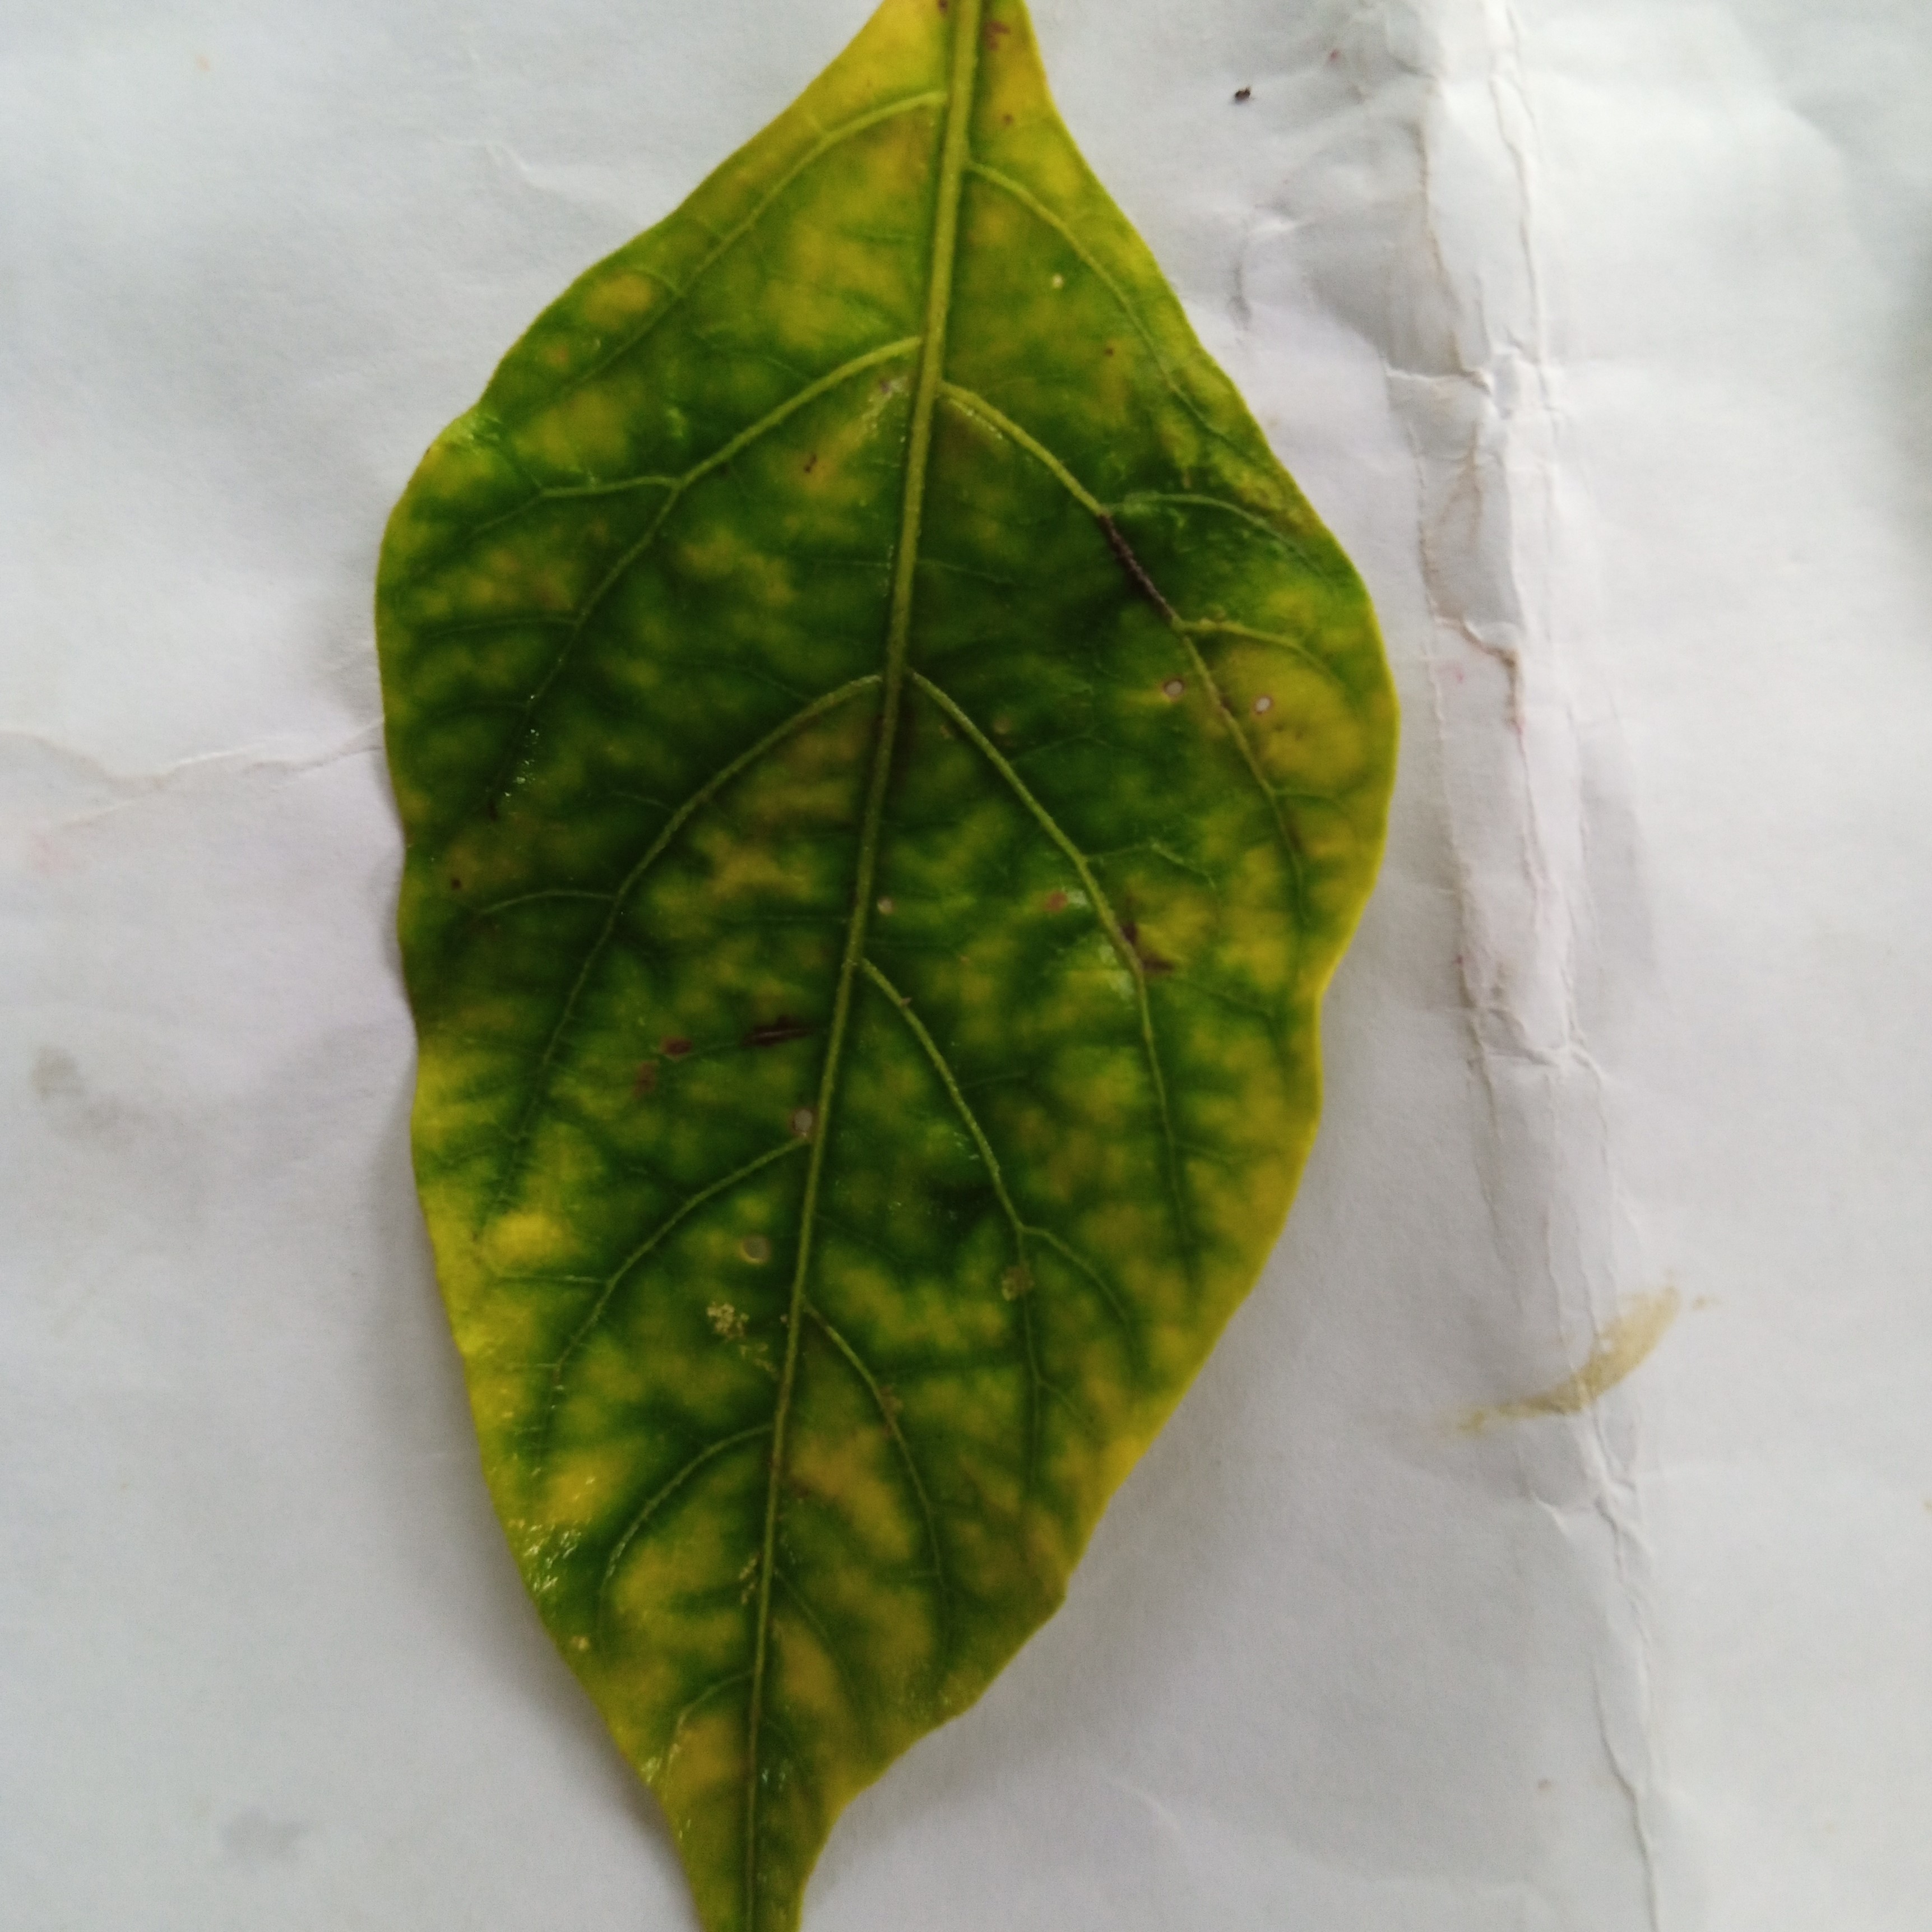Leaf: (228, 11, 1454, 1932)
